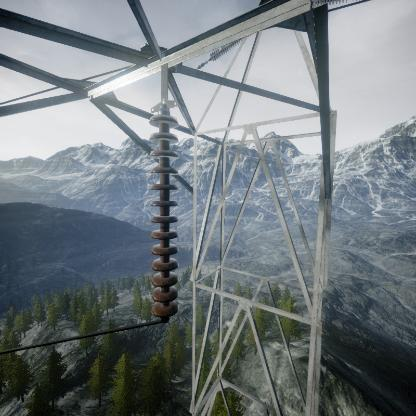insulator: (147, 106, 182, 318)
